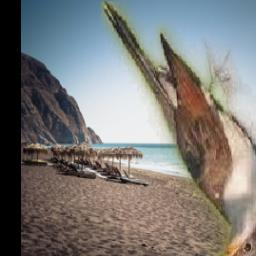Cuckoo: (101, 1, 256, 256)
